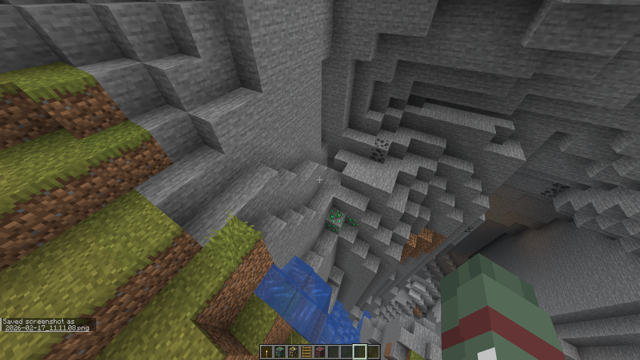coal: (370, 137, 391, 162), (539, 182, 568, 196), (462, 222, 476, 234)
emerald: (323, 208, 360, 230)
